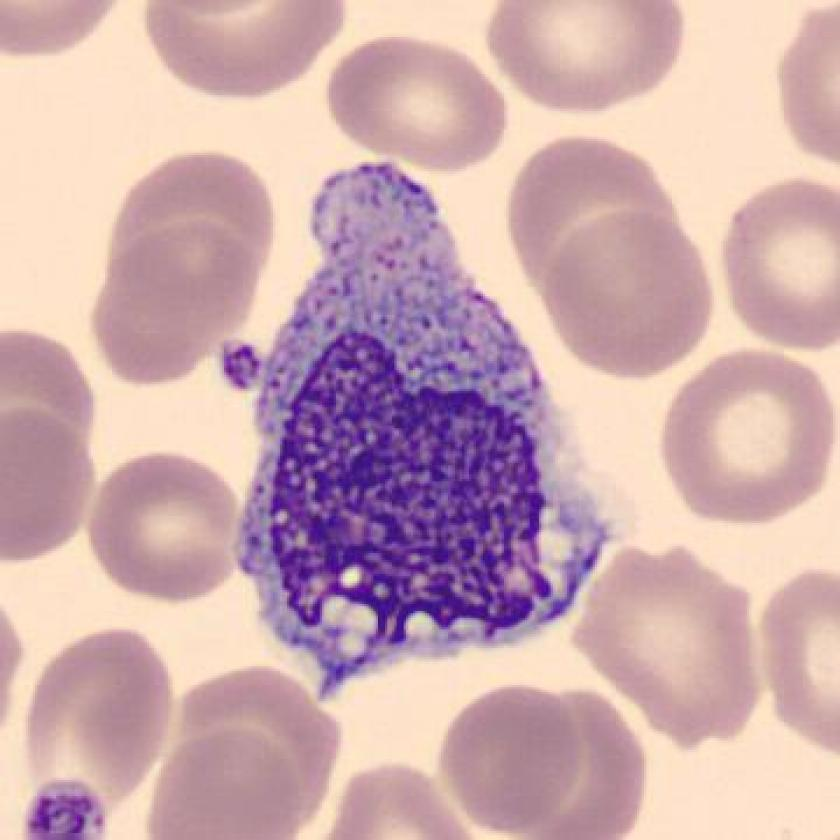monocyte: (216, 140, 631, 714)
